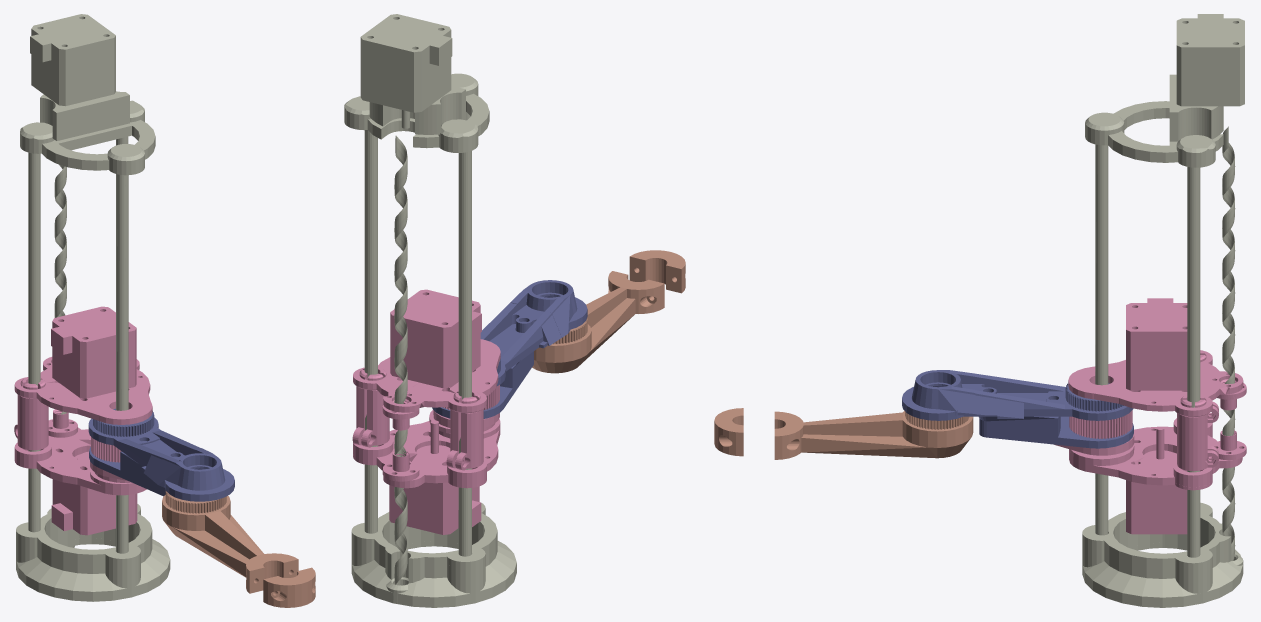
Rendered from scara_complet.glb.
3 renders of one model, left to right at view 1: azimuth 30°, elevation 25°; view 2: azimuth 150°, elevation 25°; view 3: azimuth 270°, elevation 25°, orthographic. The views are drawn at different scales.
Visible parts, largest first — view 1: Mesh_Mesh_head_geo.001_lambert2SG.001; view 2: Mesh_Mesh_head_geo.001_lambert2SG.001; view 3: Mesh_Mesh_head_geo.001_lambert2SG.001.
Part boxes in pixels (<box>): Mesh_Mesh_head_geo.001_lambert2SG.001: <box>14,14,315,607</box>; Mesh_Mesh_head_geo.001_lambert2SG.001: <box>344,14,685,607</box>; Mesh_Mesh_head_geo.001_lambert2SG.001: <box>714,14,1246,607</box>.
Bounding box in the file's own units: 0.099 × 0.368 × 0.327.
